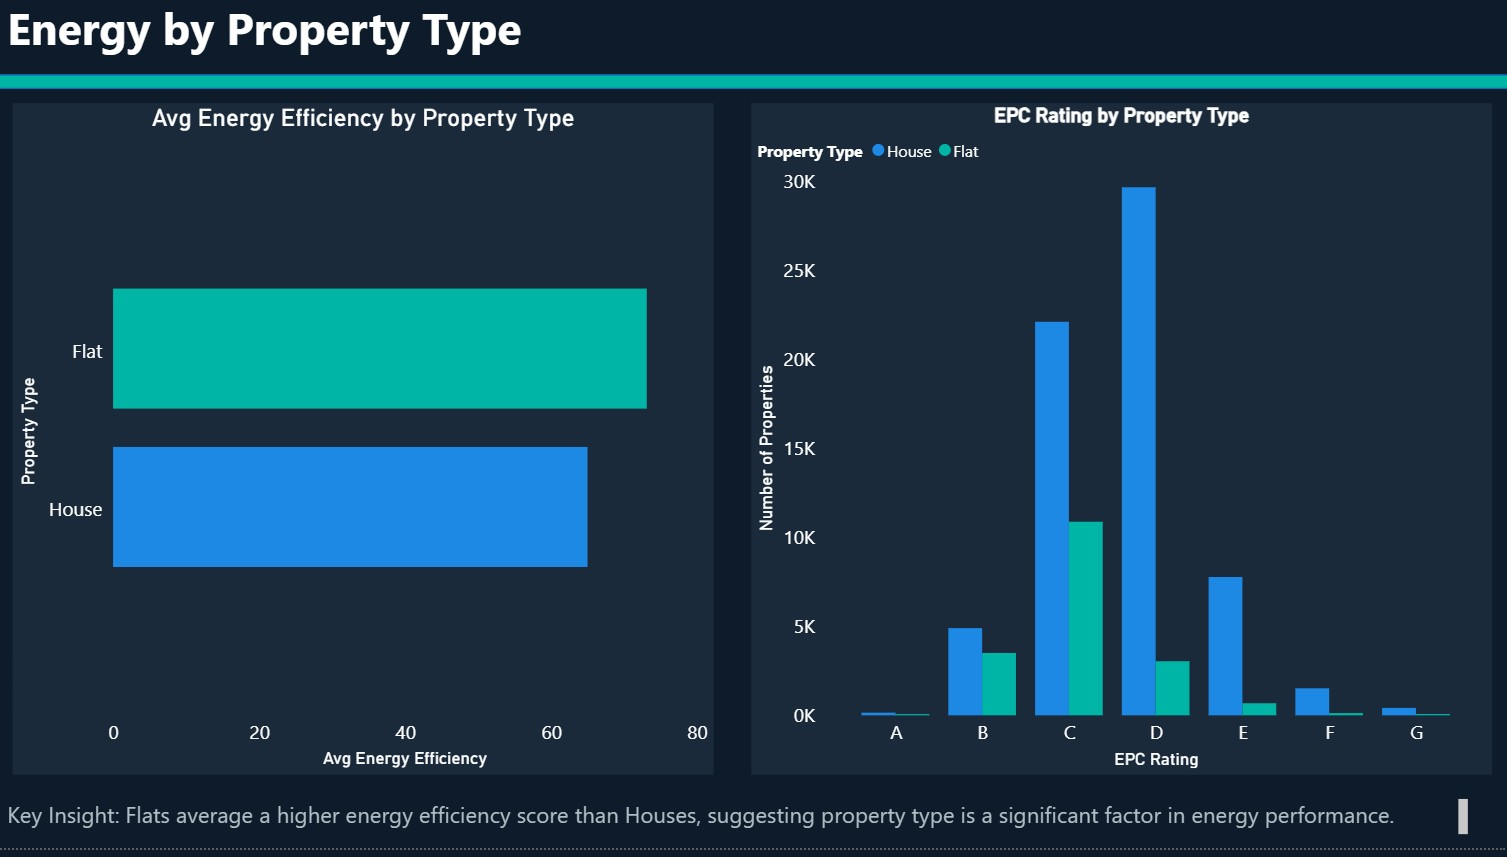

What the dashboard file says about the page in this screenshot:
{"tool":"powerbi","page":{"name":"Energy by Property Type","canvas":[1280,720],"ordinal":3},"visuals":[{"type":"textbox","box":[9.5,0,1248,93.3],"z":0},{"type":"shape","box":[0,69,1280.5,12.2],"z":1000},{"type":"clusteredBarChart","title":"Avg Energy Efficiency by Property Type","fields":{"Category":["Dim_PropertyType.PROPERTY_TYPE"],"Y":["_Measures.Avg Energy Efficiency"]},"box":[18.7,93.6,590,564.6],"z":2000},{"type":"clusteredColumnChart","title":" EPC Rating by Property Type","fields":{"Category":["Dim_EnergyRating.CURRENT_ENERGY_RATING"],"Y":["_Measures.Total Properties"],"Series":["Dim_PropertyType.PROPERTY_TYPE"]},"box":[640.8,93.6,623.4,564.6],"z":3000},{"type":"textbox","box":[9.4,674.2,1238.8,45.5],"z":4000}]}

Visuals, with their boxes in screenshot pixels (x1, y1, x2, y2), scaled from the page's 1280x720 canvas onto the 1507x857 screenshot:
textbox: bbox(11, 0, 1481, 111)
shape: bbox(0, 82, 1506, 97)
"Avg Energy Efficiency by Property Type" clusteredBarChart: bbox(22, 111, 717, 783)
" EPC Rating by Property Type" clusteredColumnChart: bbox(754, 111, 1488, 783)
textbox: bbox(11, 802, 1470, 856)
